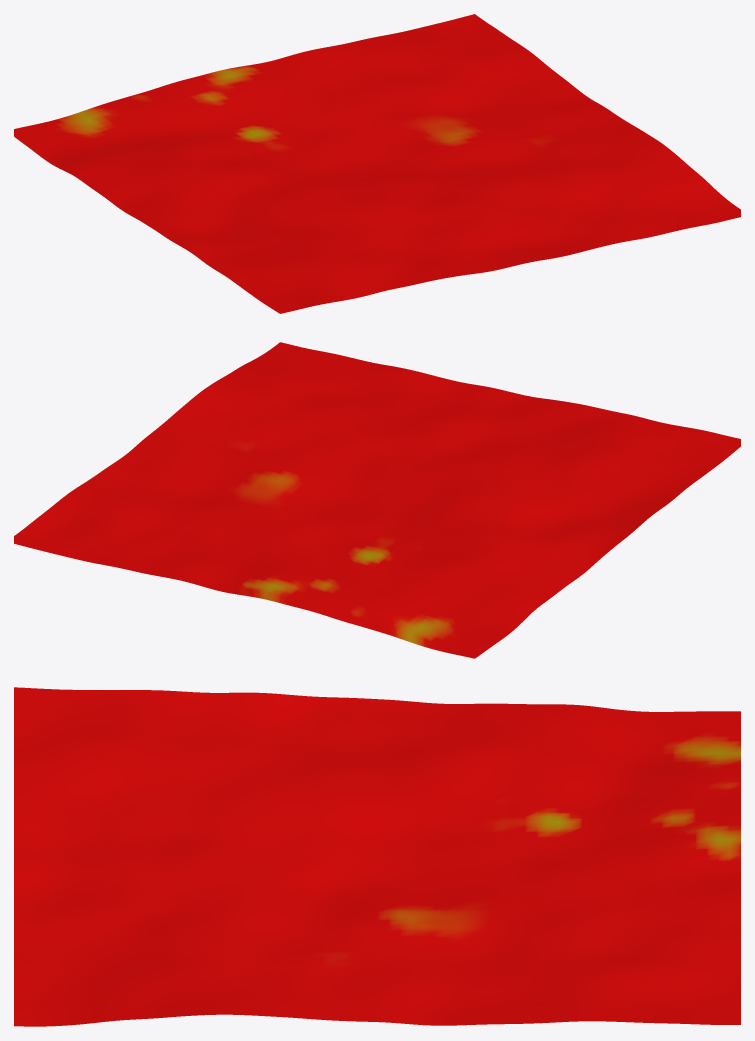
Rendered from chunk_4_7.glb.
The picture shows the model from 3 angles, top to bottom: view 1: azimuth 30°, elevation 25°; view 2: azimuth 150°, elevation 25°; view 3: azimuth 270°, elevation 25°; orthographic projection. The views are drawn at different scales.
Parts seen in each view (by area): view 1: LOD0; view 2: LOD0; view 3: LOD0.
Boxes of the visible parts, <box> form: LOD0: <box>14,14,740,313</box>; LOD0: <box>14,342,740,658</box>; LOD0: <box>14,687,740,1026</box>.
Size of what is drawn, in the model's own units: 256 by 13.7 by 256.
